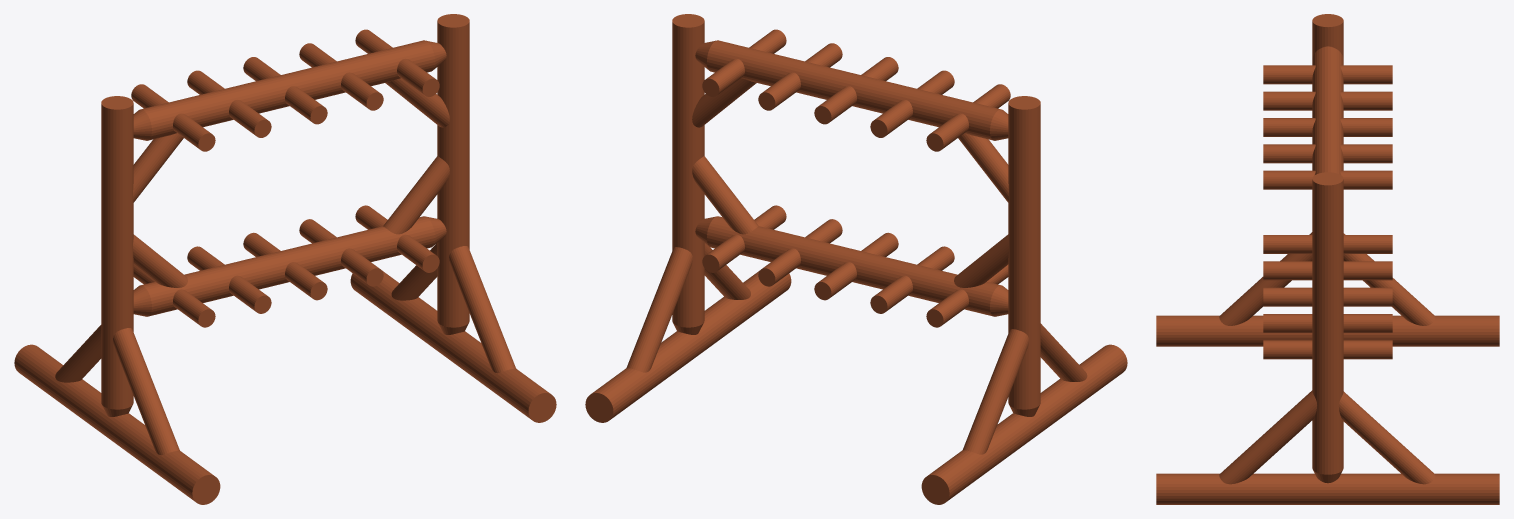
File: skistand.fbx
The picture shows the model from 3 angles, left to right: view 1: azimuth 30°, elevation 25°; view 2: azimuth 150°, elevation 25°; view 3: azimuth 270°, elevation 25°; orthographic projection. The views are drawn at different scales.
Visible parts, largest first — view 1: Cylinder; view 2: Cylinder; view 3: Cylinder.
Part boxes in pixels (left/top/right/bottom): Cylinder: left=14, top=14, right=556, bottom=504; Cylinder: left=585, top=14, right=1127, bottom=504; Cylinder: left=1156, top=14, right=1499, bottom=504.
Bounding box in the file's own units: 130 × 115 × 110.
